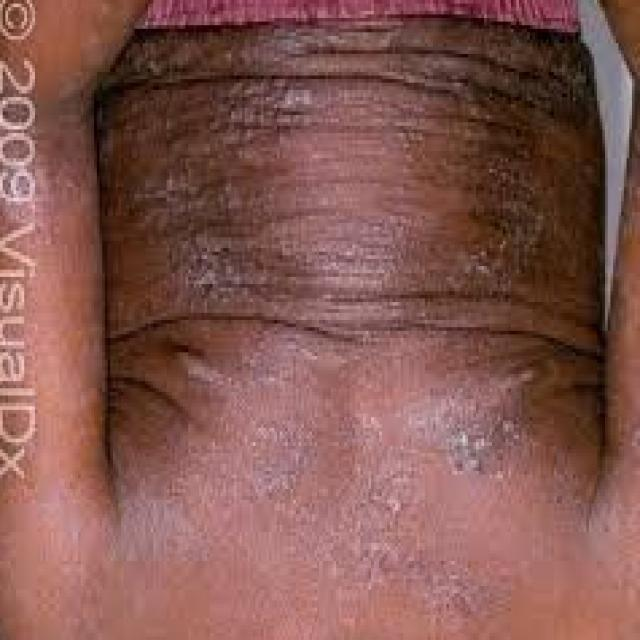Eczema: (121, 24, 595, 508)
